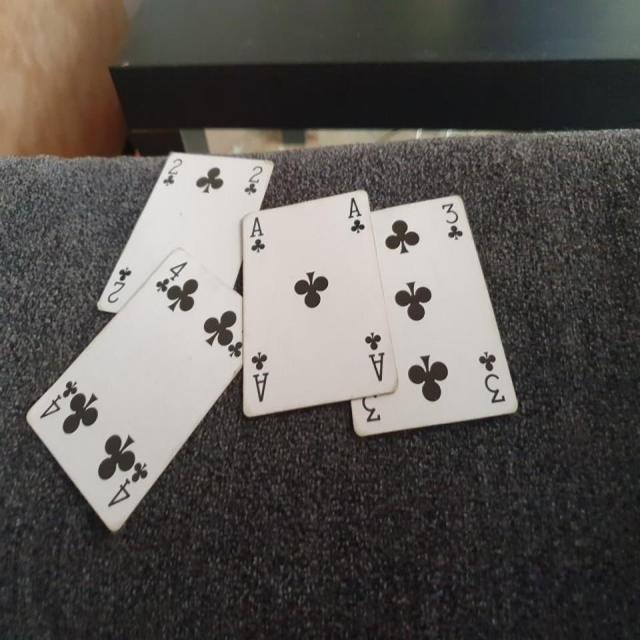2 Trefoils: (93, 147, 276, 316)
3 Trefoils: (351, 194, 520, 437)
4 Trefoils: (24, 247, 241, 530)
A Trefoils: (242, 186, 400, 413)
